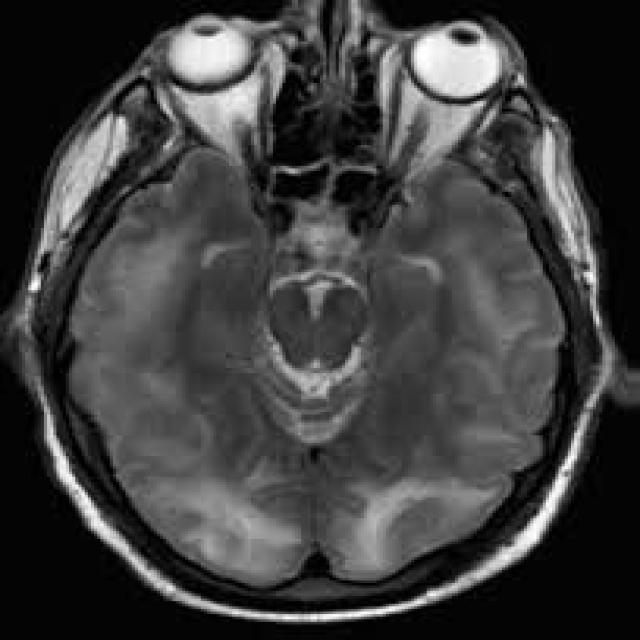No_Tumor: (0, 0, 624, 620)
